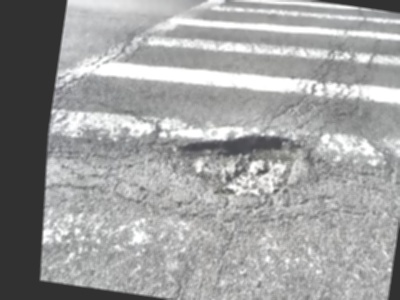pothole: (160, 111, 335, 221)
